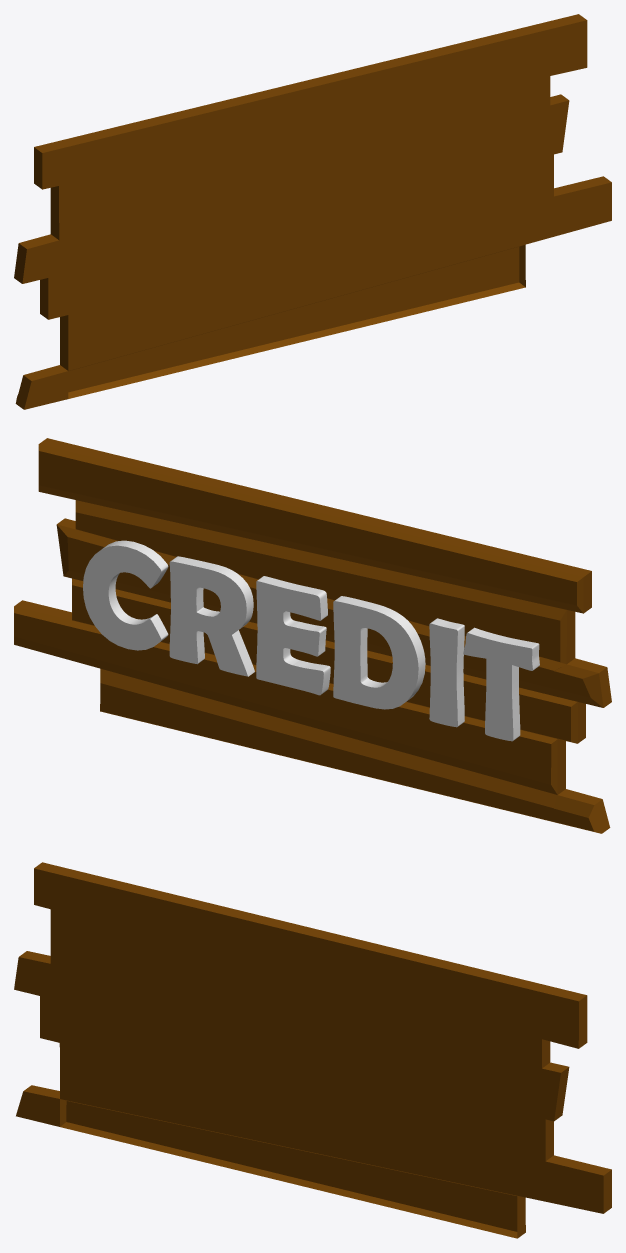
File: credit_button.fbx
3 renders of one model, top to bottom at view 1: azimuth 30°, elevation 25°; view 2: azimuth 150°, elevation 25°; view 3: azimuth 330°, elevation 25°, orthographic.
Visible parts, largest first — view 1: pCube4; view 2: pCube4, typeMesh1; view 3: pCube4.
Boxes of the visible parts, left/top/right/bottom form: pCube4: left=14, top=14, right=611, bottom=409; pCube4: left=14, top=438, right=611, bottom=833; typeMesh1: left=83, top=540, right=539, bottom=741; pCube4: left=14, top=862, right=611, bottom=1238.
Bounding box in the file's own units: 122 × 50 × 6.78.
